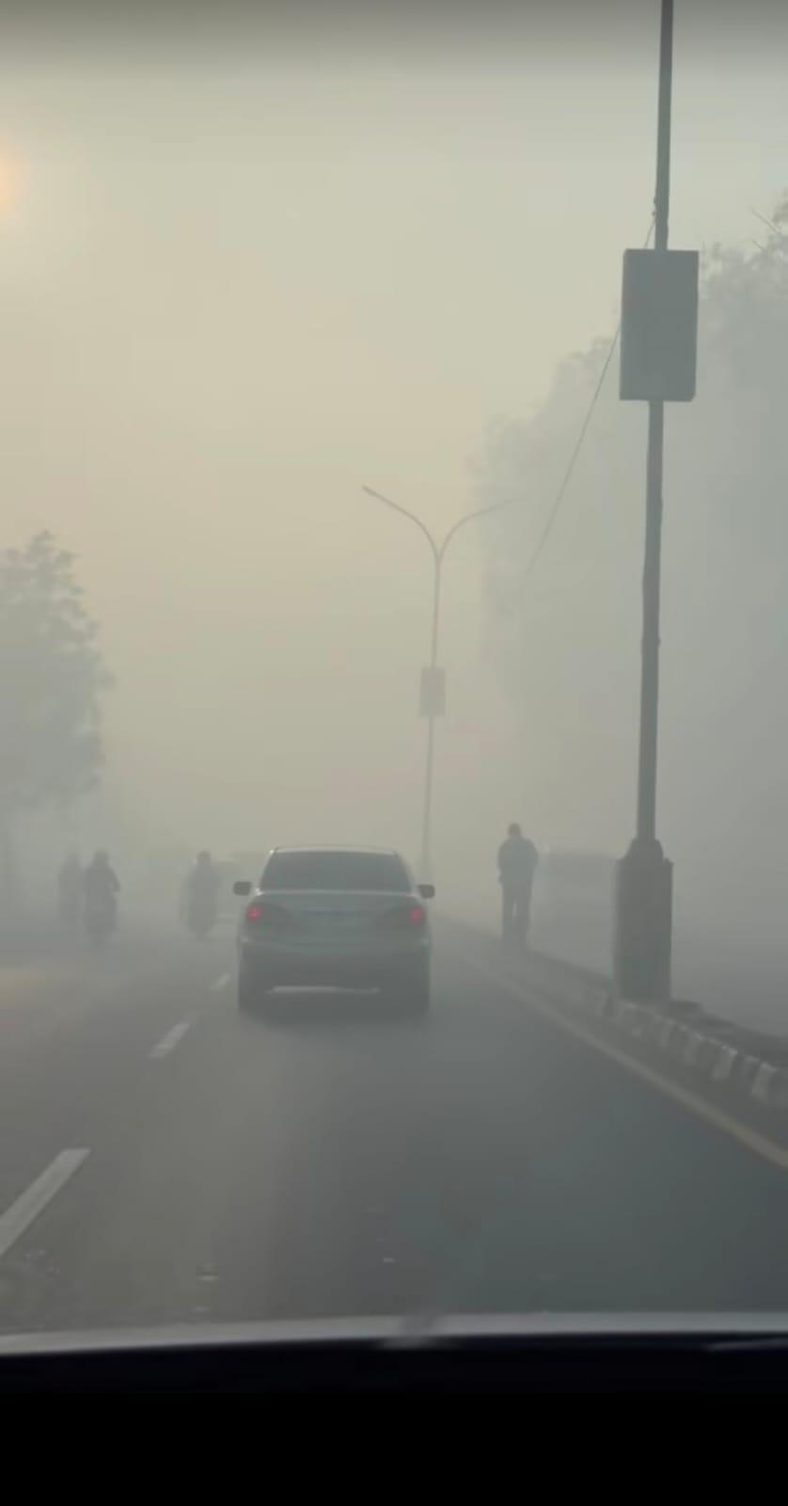Deteksi-Objek-Citra-Berasap: (0, 0, 788, 1325)
Kendaraan: (233, 846, 435, 1018)
Manusia: (496, 824, 540, 950), (81, 850, 121, 947), (180, 851, 220, 938), (56, 852, 84, 930)
Vegetasi: (467, 195, 788, 613), (0, 526, 118, 860)
